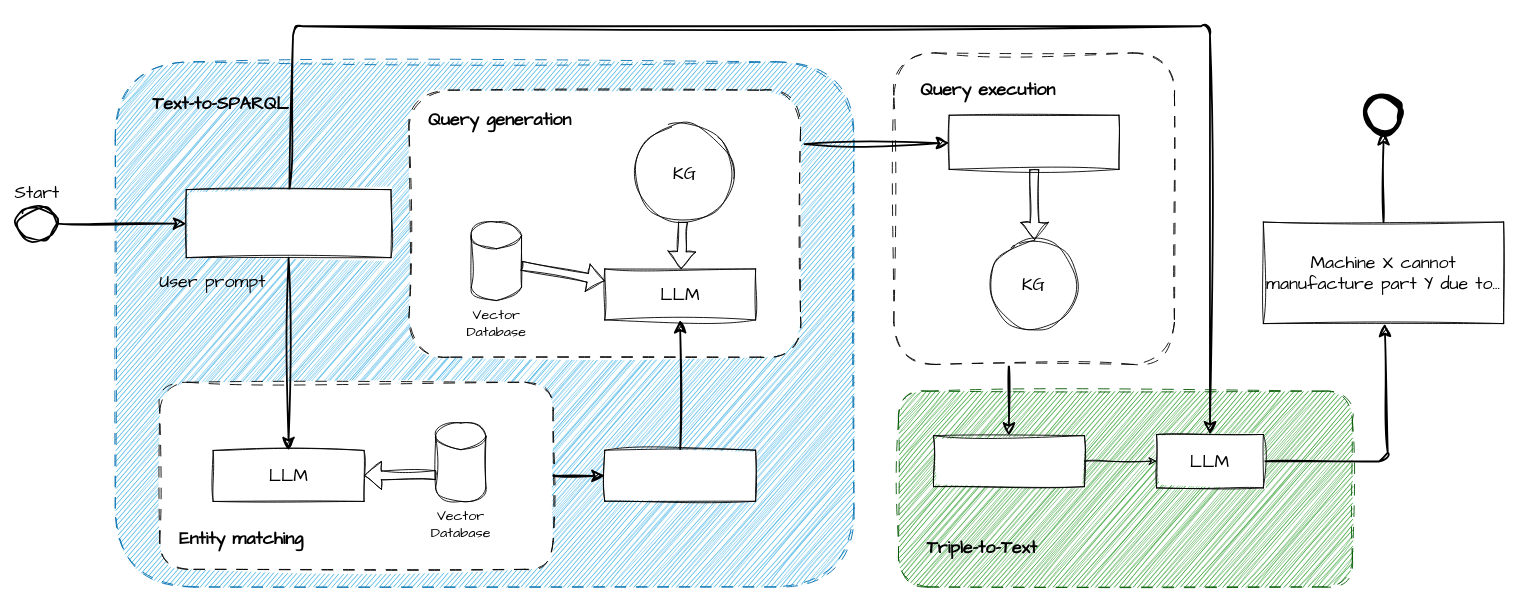
The diagram is 1520 pixels wide and 603 high, and some of its shapes have lost their labels. The shapes that lost their labels are listed below. From the top down, each one's centre as x and y in pixels, then its label:
point (1383, 113): Stop
point (1033, 141): SPARQL query
point (288, 223): Can machine X manufacture part Y?
point (680, 475): Entity context
point (1008, 461): Triples
